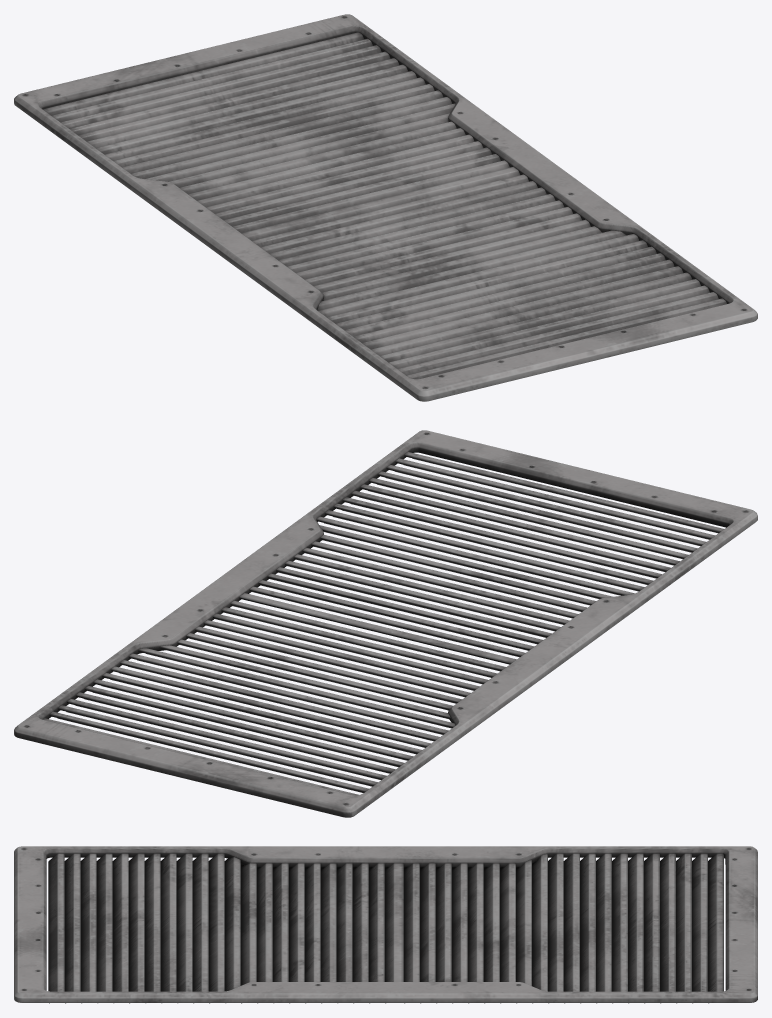
Rendered from SM_HangarFloorAsset.fbx.
3 views of the same model, one above another, from view 1: azimuth 30°, elevation 25°; view 2: azimuth 150°, elevation 25°; view 3: azimuth 270°, elevation 25° (orthographic). The views are drawn at different scales.
Parts seen in each view (by area): view 1: SM_HangarFloorAsset_LOD0; view 2: SM_HangarFloorAsset_LOD0; view 3: SM_HangarFloorAsset_LOD0.
Part boxes in pixels (box(x1,y1,x2,y2)): SM_HangarFloorAsset_LOD0: box(14, 14, 757, 401); SM_HangarFloorAsset_LOD0: box(14, 430, 757, 817); SM_HangarFloorAsset_LOD0: box(14, 846, 757, 1003).
Bounding box in the file's own units: 220 × 460 × 9.18.
Materials: 1 (1 with a texture image).
